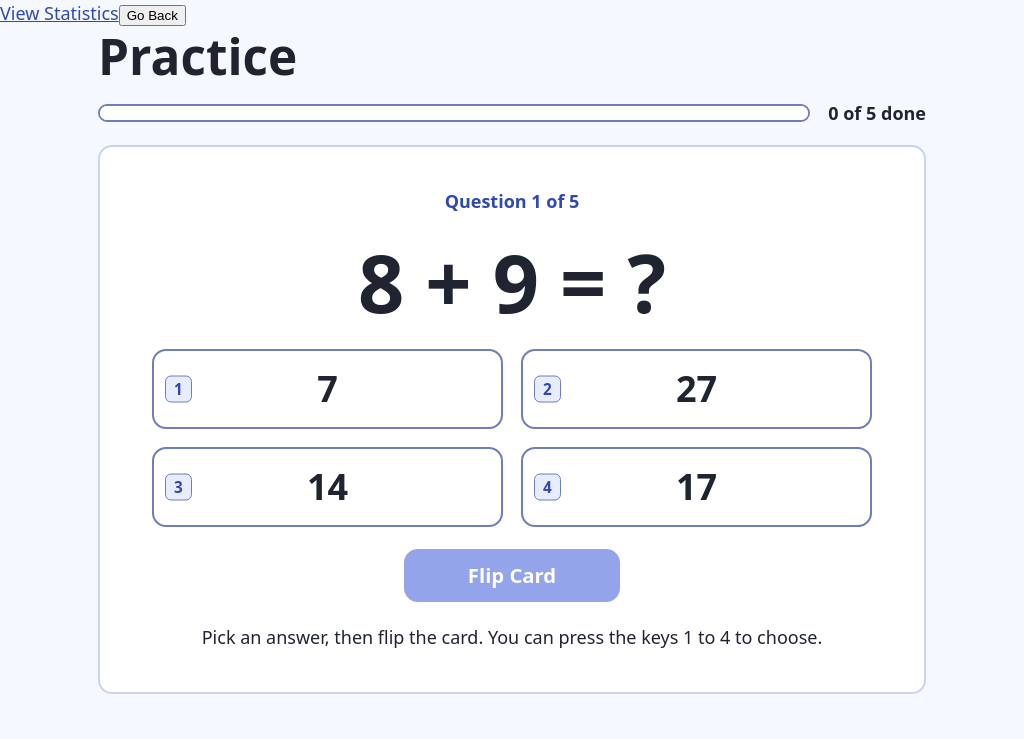
Scenario: leaving a session in progress › starts on the safe choice, so a stray Enter does not leave
Click the link "View Statistics": [59, 13] box [0,1,119,25]
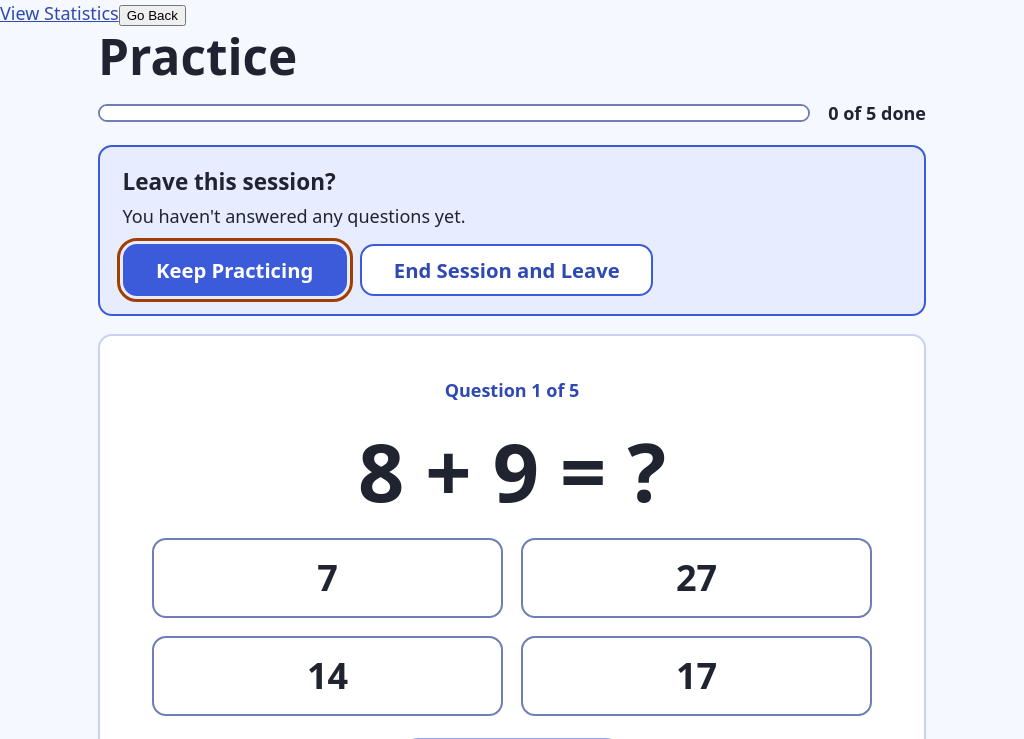
Press Enter
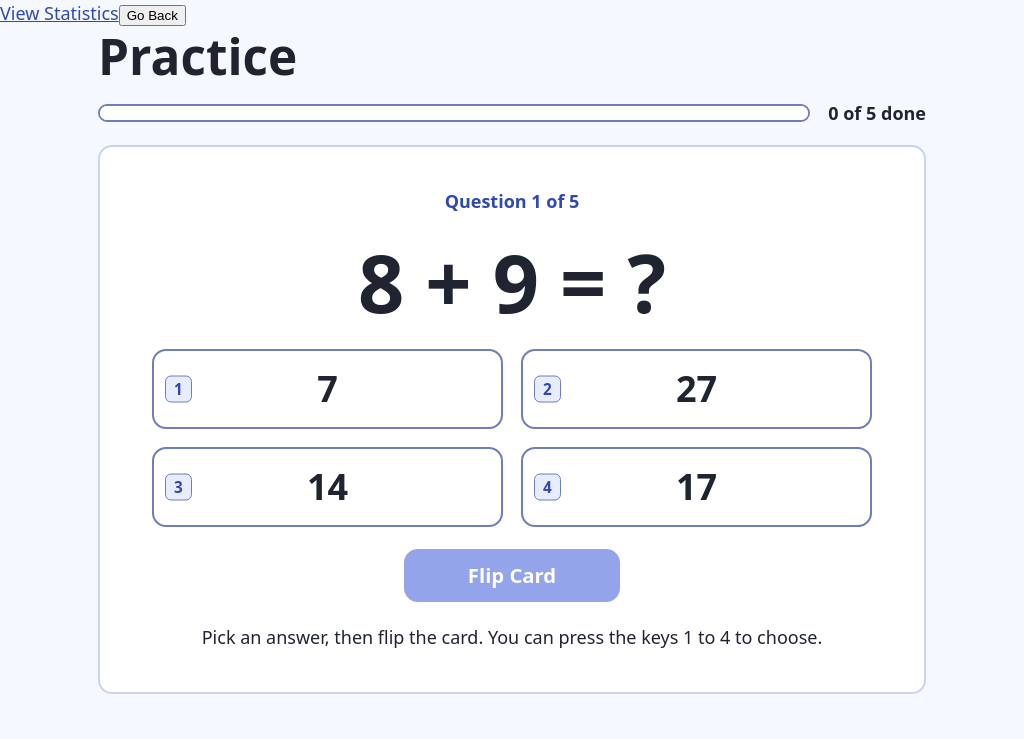
expect the dialog is gone: met
